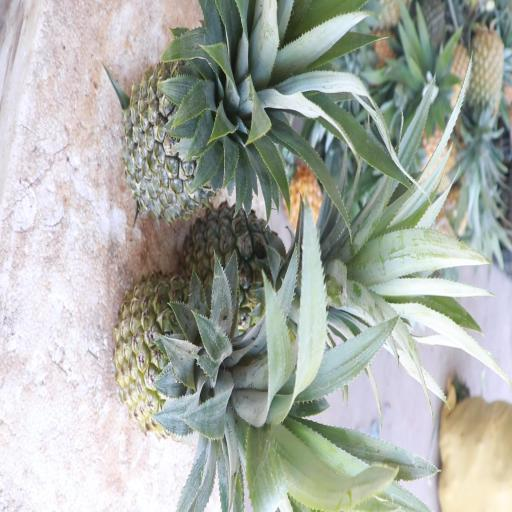------------------------------: (113, 264, 348, 447), (180, 199, 362, 353)
Pineapple - v8 v1: (471, 14, 512, 169)
